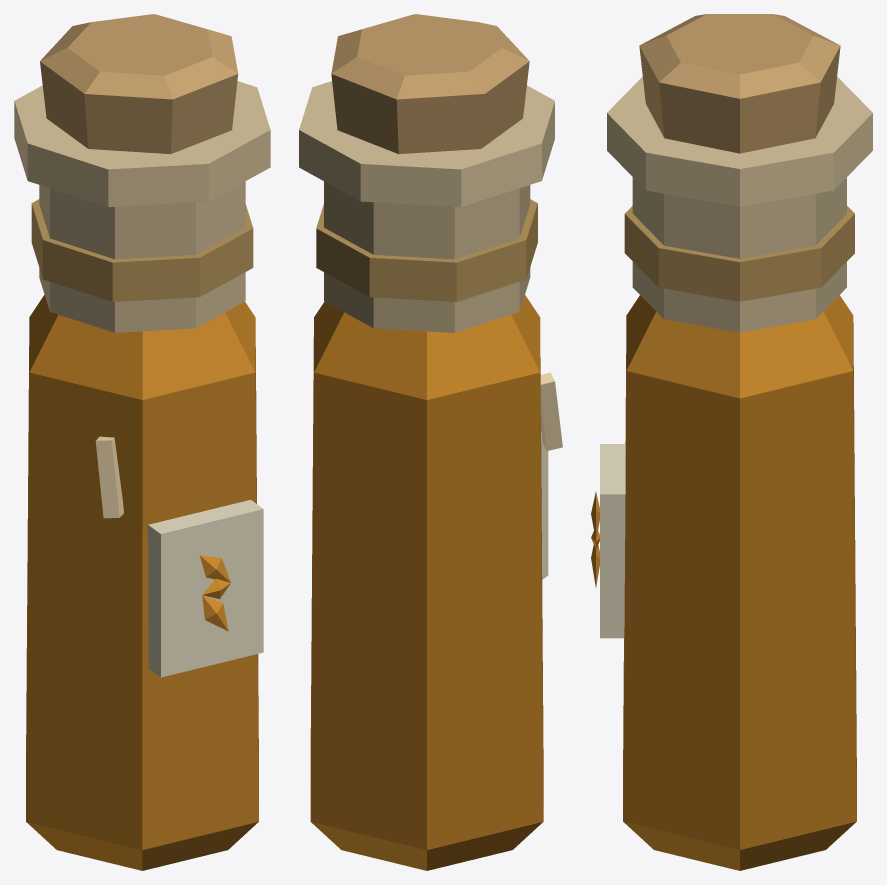
Rendered from item_potion_haste.glb.
3 views of the same model, side by side, from view 1: azimuth 30°, elevation 25°; view 2: azimuth 150°, elevation 25°; view 3: azimuth 270°, elevation 25° (orthographic).
Parts seen in each view (by area): view 1: item_potion_haste; view 2: item_potion_haste; view 3: item_potion_haste.
Part boxes in pixels (x1,y1,x2,y2): item_potion_haste: (14,14,270,870); item_potion_haste: (299,14,562,870); item_potion_haste: (591,14,872,870).
Bounding box in the file's own units: 0.136 × 0.437 × 0.142.
